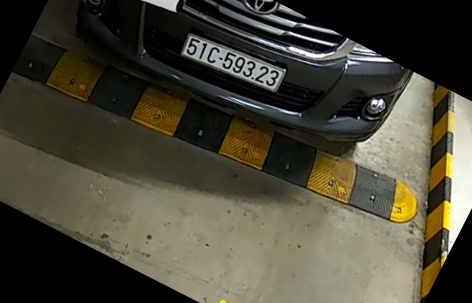plate: (174, 23, 288, 98)
